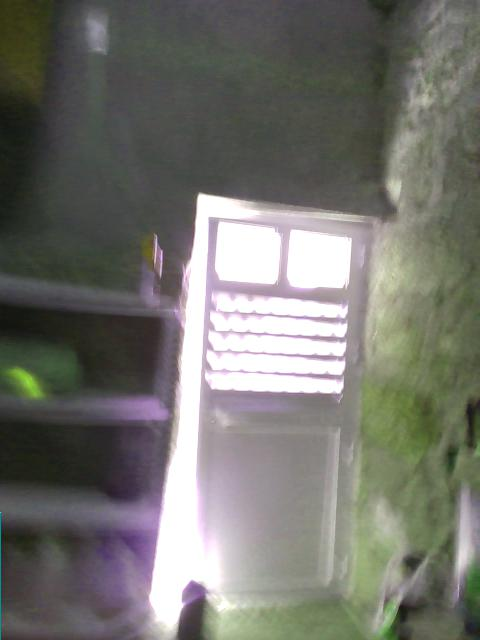closed_door: (196, 214, 375, 609)
